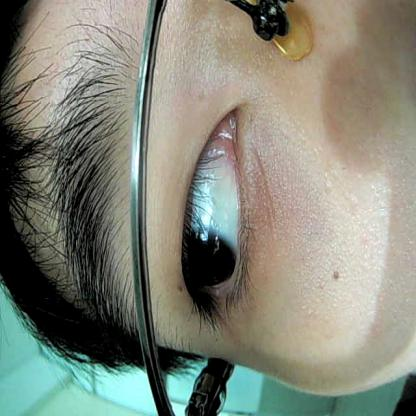Right: (165, 100, 267, 330)
